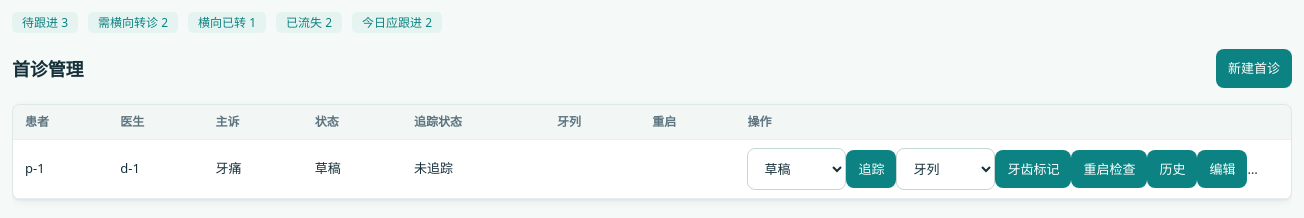
Scenario: FirstExamsPage › transitions first exam status with a toast
Select "已提交" in the dropdown named "变更首诊状态": (797, 169) top-left (747, 148), bottom-right (846, 190)
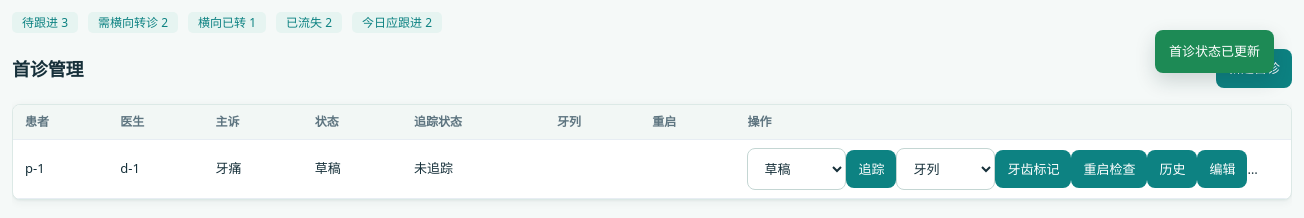
Expected: the text "首诊状态已更新" is shown, top-left (1155, 30), bottom-right (1274, 73)
